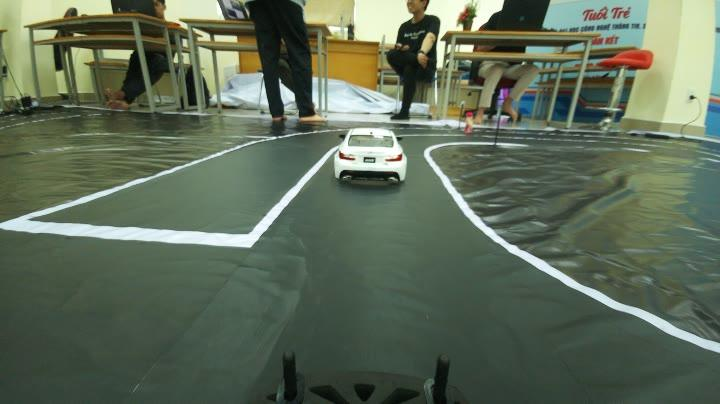car: (332, 120, 429, 196)
